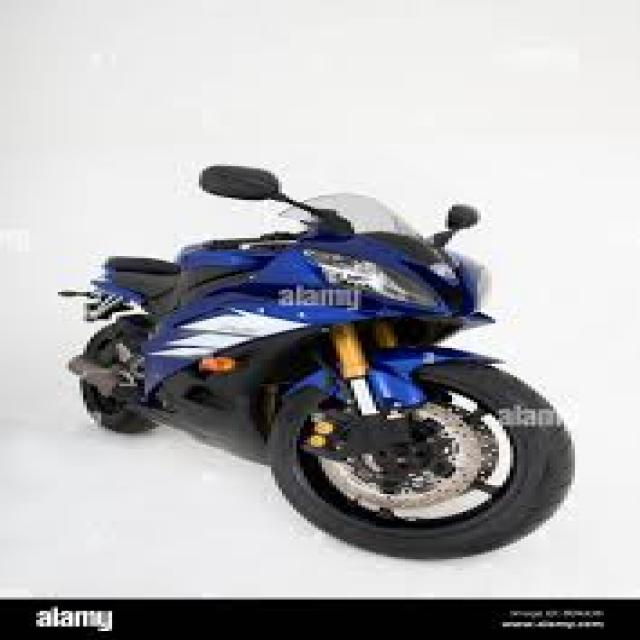bike: (57, 162, 574, 561)
